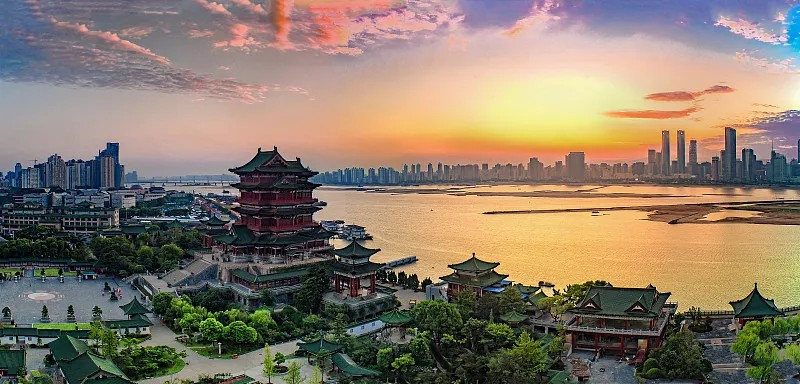Teng: (218, 146, 339, 263)
